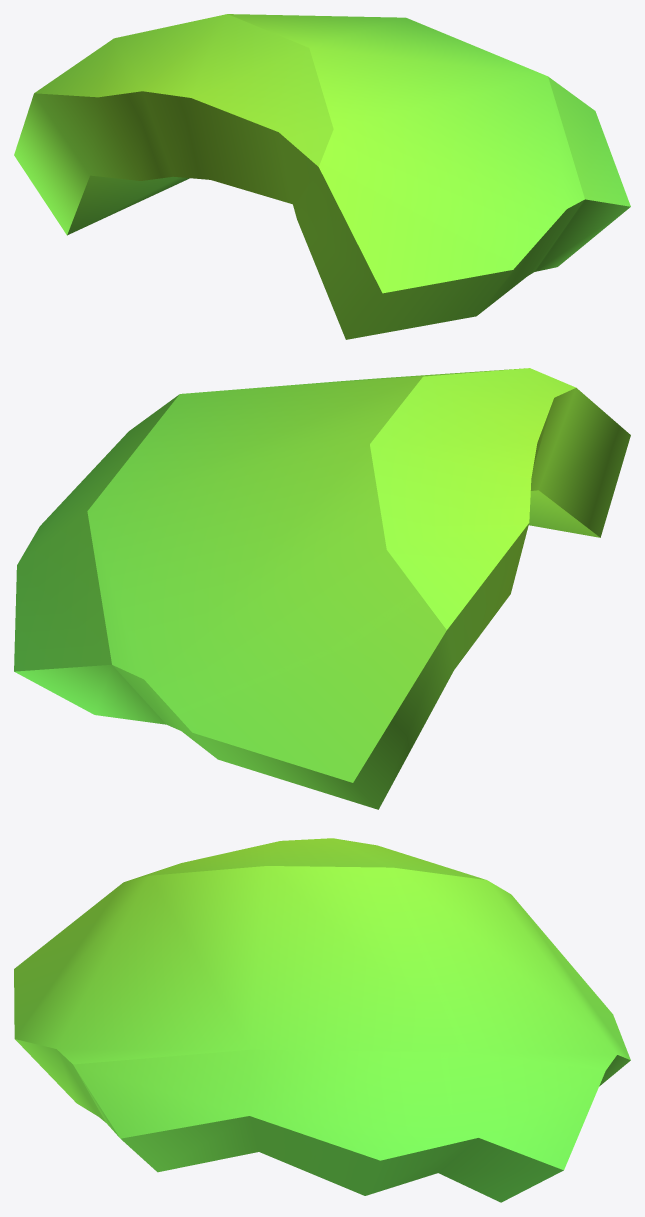
Rendered from Egg_Particle_Green_001.fbx.
3 renders of one model, top to bottom at view 1: azimuth 30°, elevation 25°; view 2: azimuth 150°, elevation 25°; view 3: azimuth 270°, elevation 25°, orthographic. The views are drawn at different scales.
Visible parts, largest first — view 1: Egg_Particle_Green_001; view 2: Egg_Particle_Green_001; view 3: Egg_Particle_Green_001.
Part boxes in pixels (<box>): Egg_Particle_Green_001: <box>14,14,630,339</box>; Egg_Particle_Green_001: <box>14,368,630,809</box>; Egg_Particle_Green_001: <box>14,838,630,1202</box>.
Size of the model in its own units: 1.37 by 0.7852 by 1.71.
